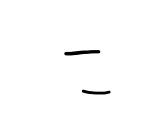eqv: (64, 50, 111, 95)
